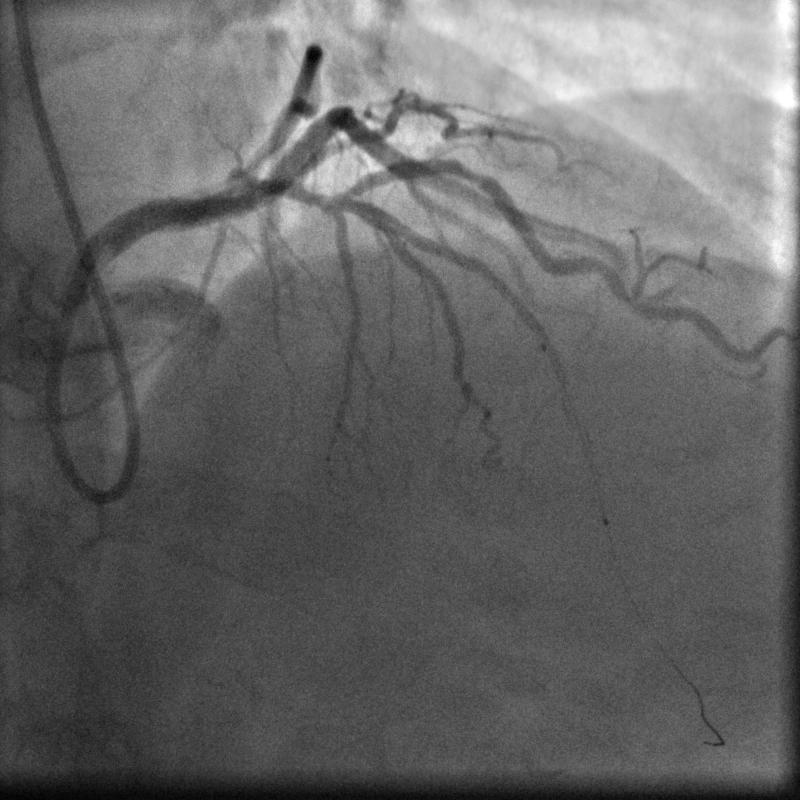Stenosis: (448, 154, 496, 195)
